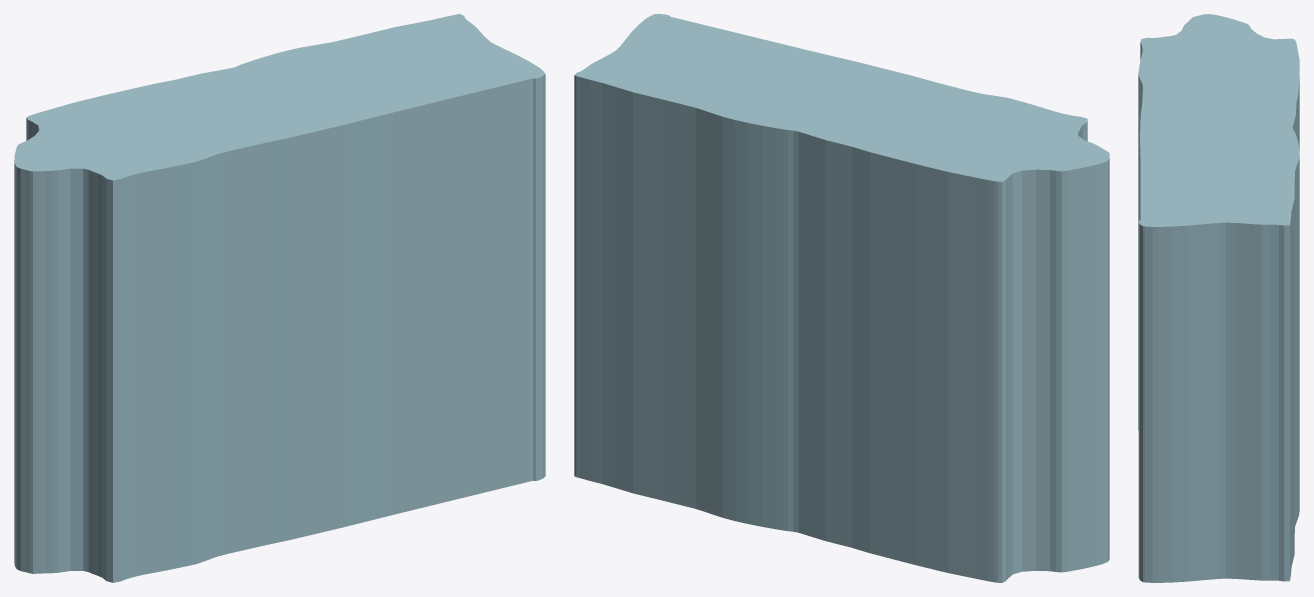
The picture shows the model from 3 angles, left to right: view 1: azimuth 30°, elevation 25°; view 2: azimuth 150°, elevation 25°; view 3: azimuth 270°, elevation 25°; orthographic projection. The views are drawn at different scales.
Visible parts, largest first — view 1: Mesh_Mesh_head_geo.001_lambert2SG.001; view 2: Mesh_Mesh_head_geo.001_lambert2SG.001; view 3: Mesh_Mesh_head_geo.001_lambert2SG.001.
Boxes of the visible parts, x1=… form: Mesh_Mesh_head_geo.001_lambert2SG.001: x1=14, y1=14, x2=545, y2=582; Mesh_Mesh_head_geo.001_lambert2SG.001: x1=574, y1=14, x2=1109, y2=582; Mesh_Mesh_head_geo.001_lambert2SG.001: x1=1138, y1=14, x2=1299, y2=582.
Bounding box in the file's own units: 61.61 × 48 × 19.74.
